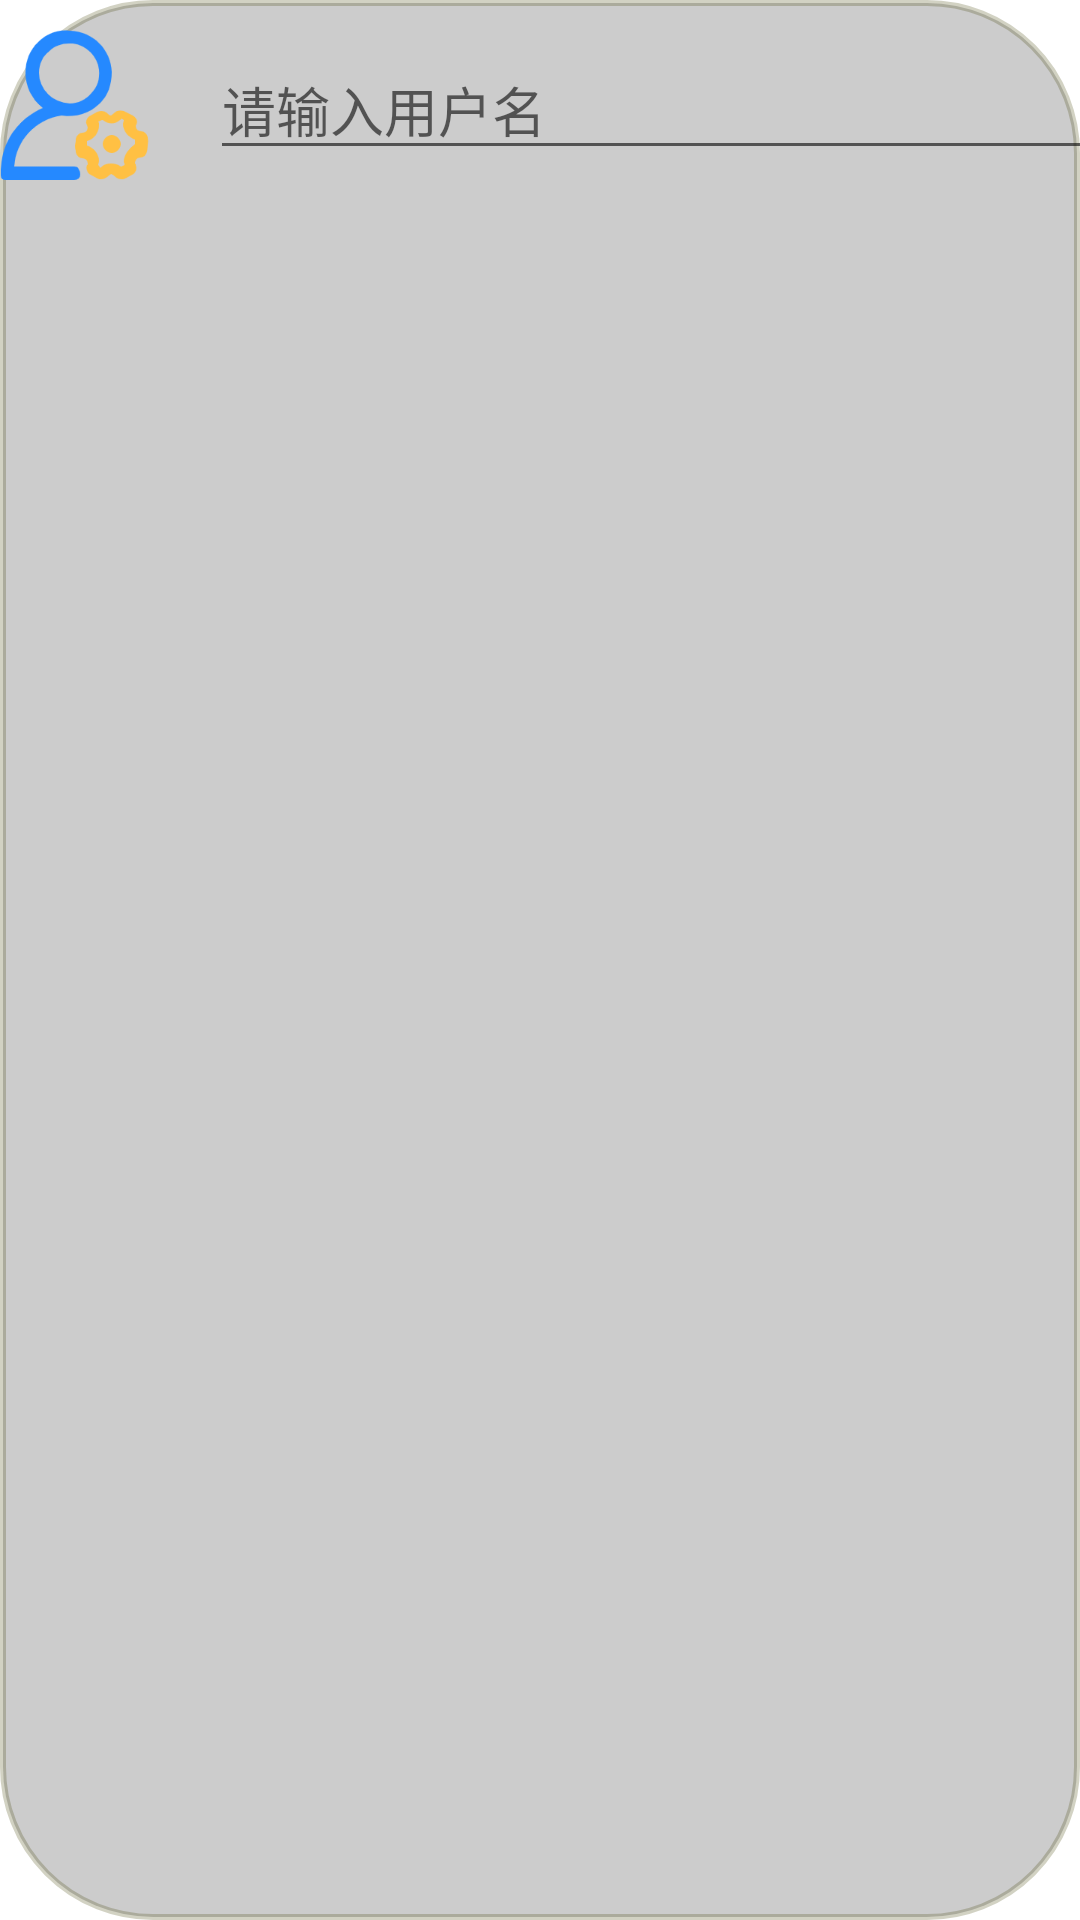

Screen size 1080*1920. Icon name, then its center in pixels as (x,y):
reg: (105,105)
